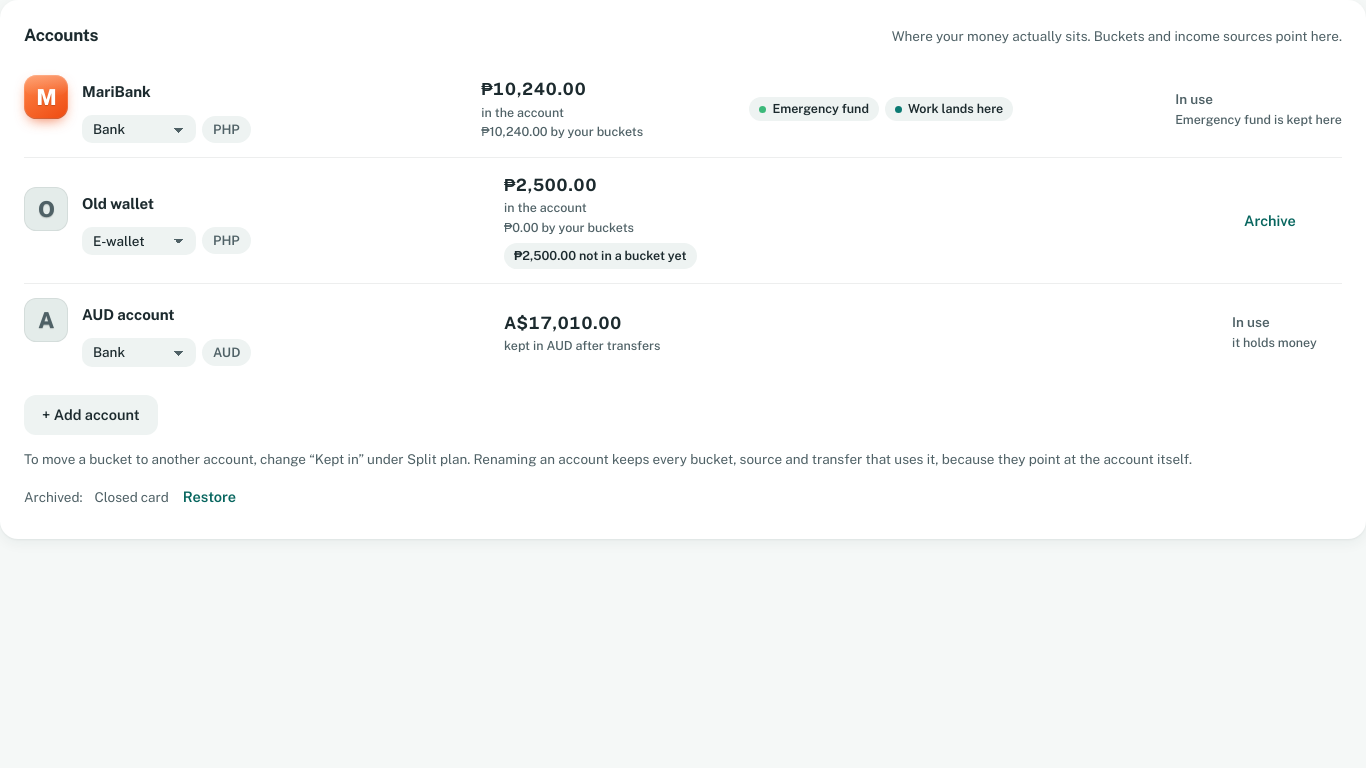
AccountsPanel › changes the type and puts it back if the save fails
The image size is (1366, 768).
Step 1. Select "Savings" in the dropdown named "Type of Old wallet" → (139, 241), box [82,227,196,255]
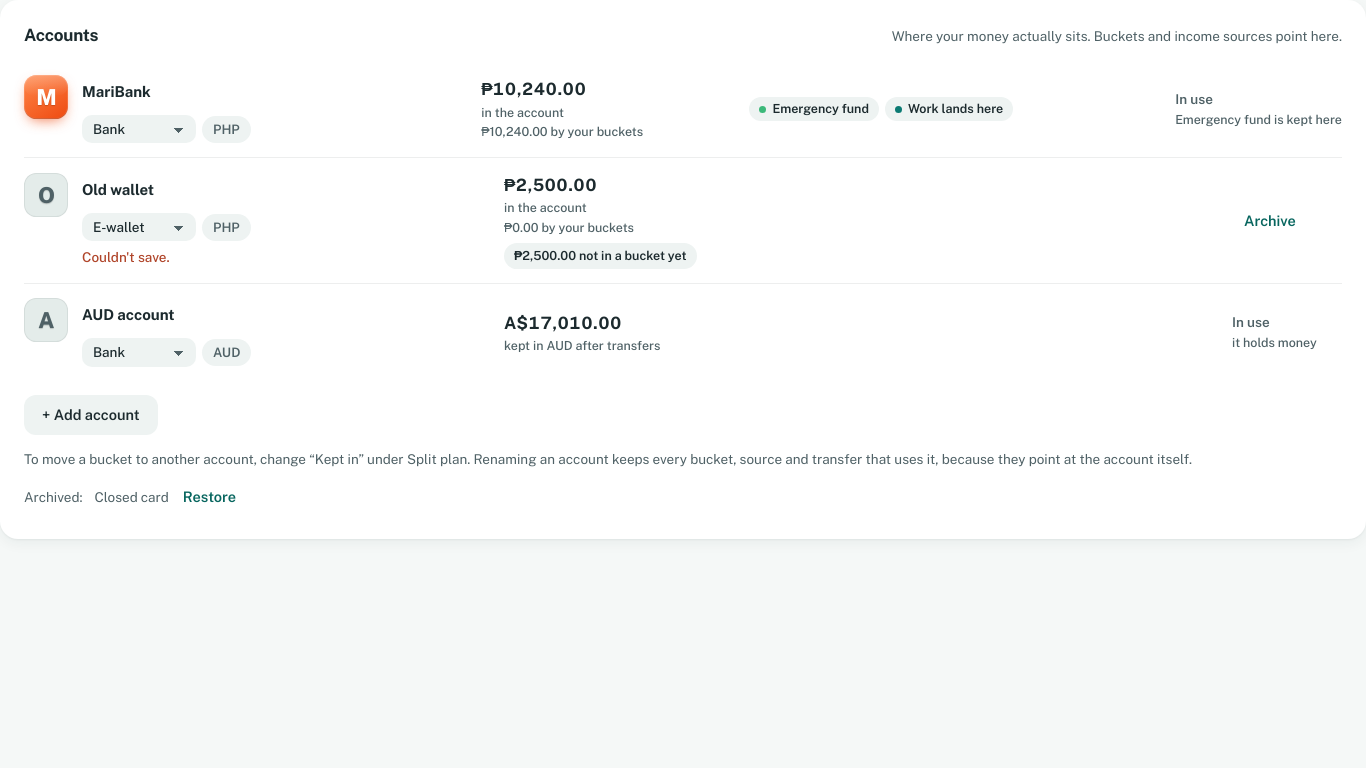
expect the text "Couldn't save." is shown: met, box [82,249,170,265]
